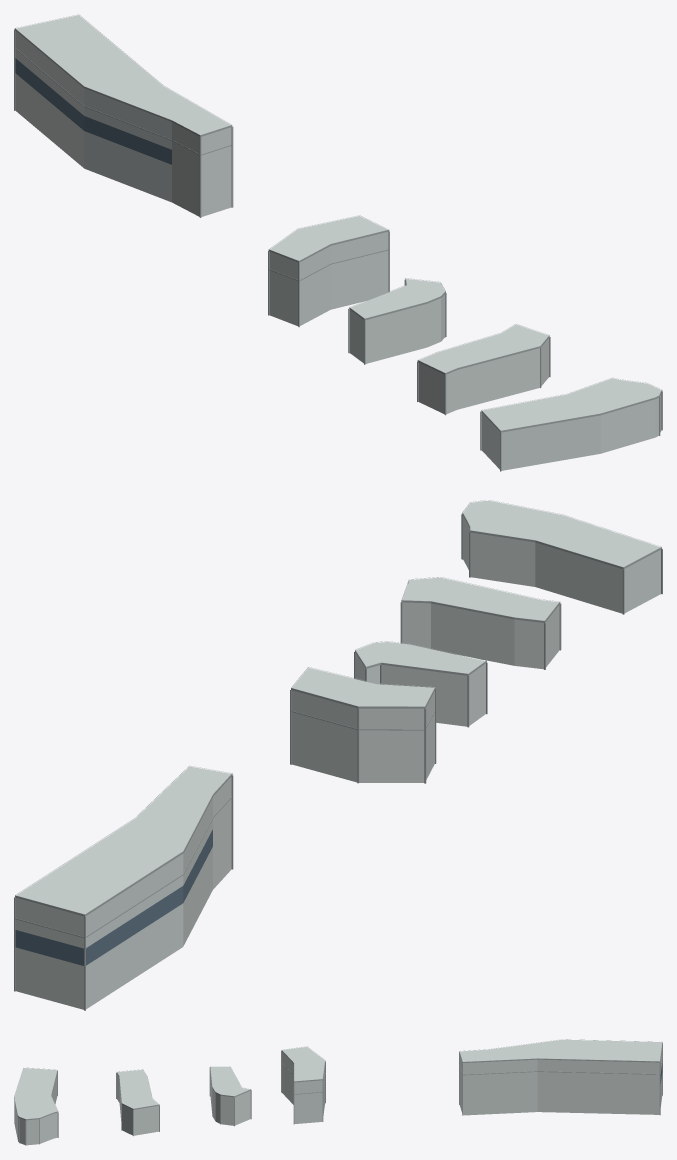
File: kc-bloch-building.glb
3 views of the same model, one above another, from view 1: azimuth 30°, elevation 25°; view 2: azimuth 150°, elevation 25°; view 3: azimuth 270°, elevation 25° (orthographic). The views are drawn at different scales.
Visible parts, largest first — view 1: Bloch Building; view 2: Bloch Building; view 3: Bloch Building.
Boxes of the visible parts, box(x1,y1,x2,y2) form: Bloch Building: box(14, 14, 662, 471); Bloch Building: box(14, 500, 662, 1010); Bloch Building: box(14, 1039, 662, 1145).
Bounding box in the file's own units: 51.94 × 22.92 × 251.
